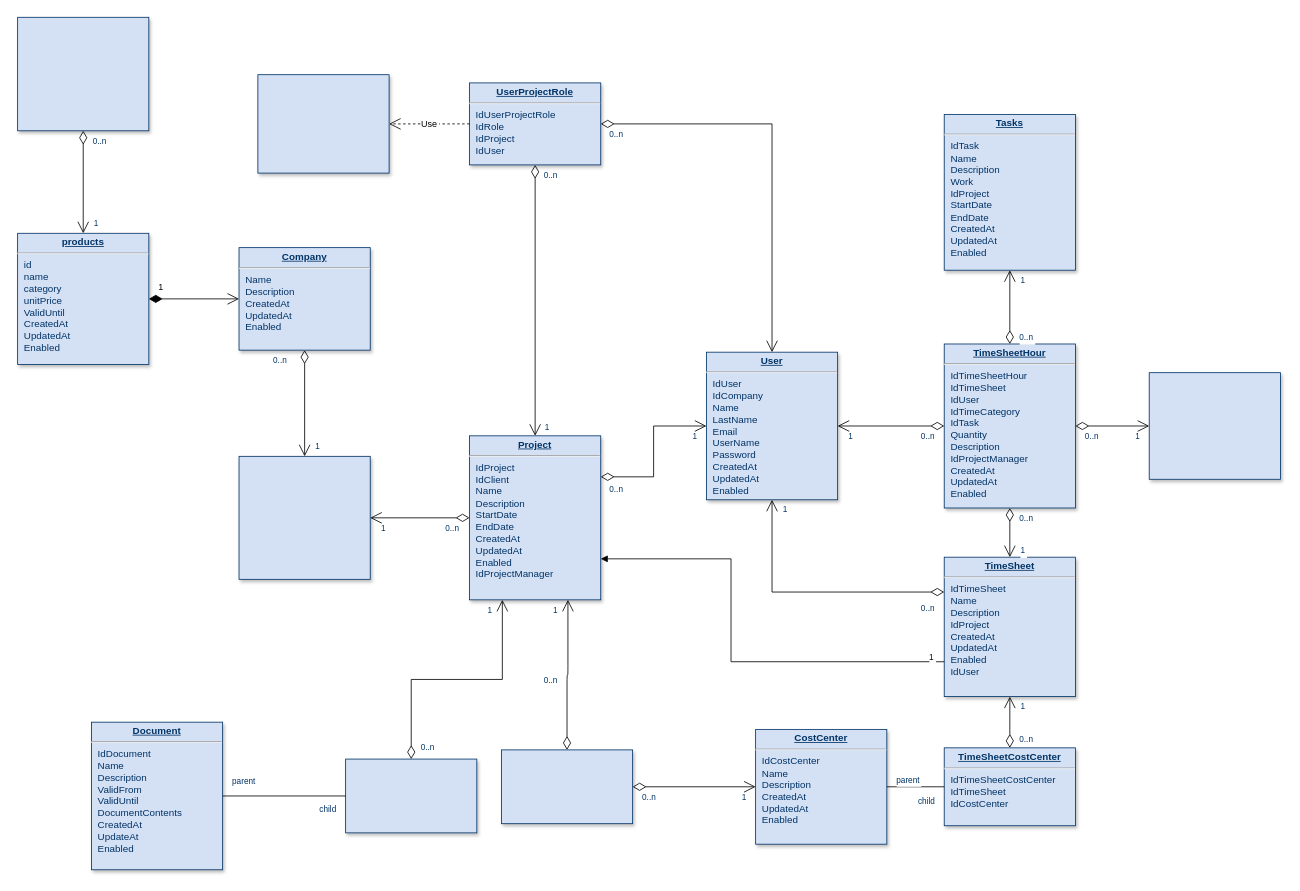
The diagram is 1300 pixels wide and 891 high, and some of its shapes have lost their labels. The shapes that lost their labels are listed below. From the top down, each one's centre as x and y in pixels, then its label:
At (84,75): "users id email firstName lastName CreatedAt UpdatedAt Enabled".
At (324,125): "Role id rolName Description CreatedAt UpdatedAt Enabled".
At (1215,427): "TimeCategory IdTimeCategory Name Description CreatedAt UpdatedAt Enabled".
At (305,518): "Client IdClient IdCompany Name Description CreatedAt UpdatedAt Enabled".
At (412,797): "ProjectDocument IdProjectDocument IdProject IdDocument".
At (567,787): "ProjectCostCenter IdProjectCostCenter IdProject IdCostCenter".
